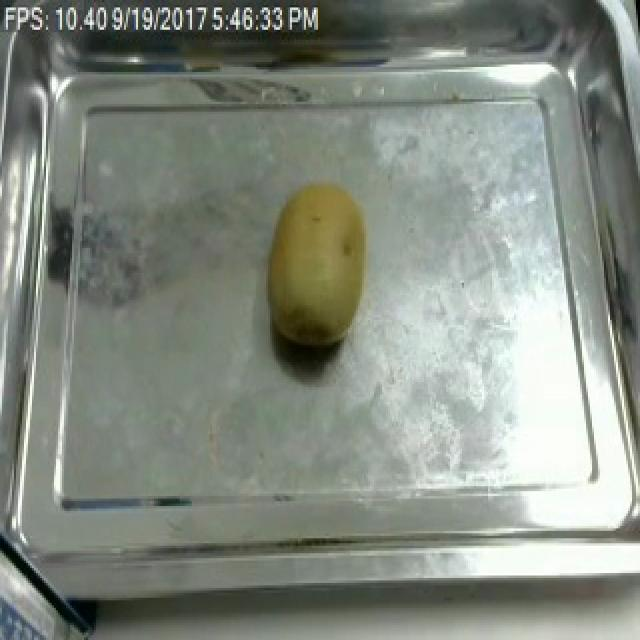Fruit: (258, 171, 384, 360)
